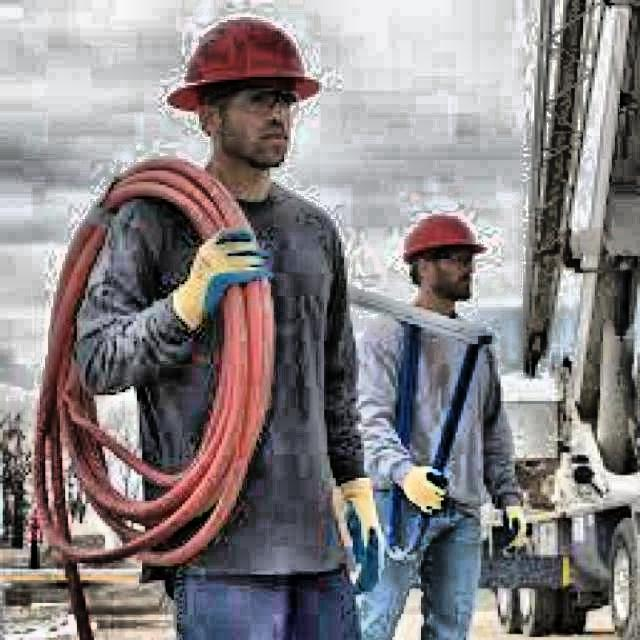bull_dozer/loader/grader: (478, 0, 640, 638)
person: (72, 17, 390, 639), (356, 213, 525, 640)
